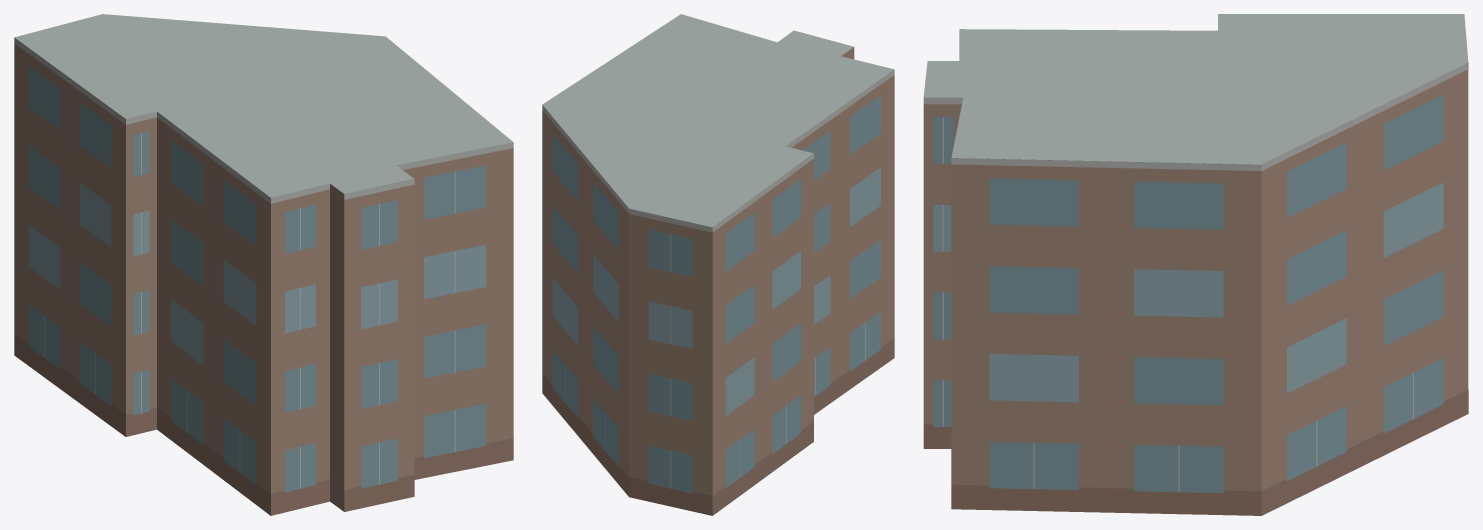
The model's file is survey-upis-32584878.glb.
3 views of the same model, side by side, from view 1: azimuth 30°, elevation 25°; view 2: azimuth 150°, elevation 25°; view 3: azimuth 270°, elevation 25° (orthographic). The views are drawn at different scales.
Parts seen in each view (by area): view 1: survey-upis-32584878.tmp; view 2: survey-upis-32584878.tmp; view 3: survey-upis-32584878.tmp.
Boxes of the visible parts, bbox=[...] form: survey-upis-32584878.tmp: bbox=[14, 14, 513, 515]; survey-upis-32584878.tmp: bbox=[542, 14, 894, 515]; survey-upis-32584878.tmp: bbox=[923, 14, 1468, 515].
Bounding box in the file's own units: 12.16 × 13.2 × 18.57.
